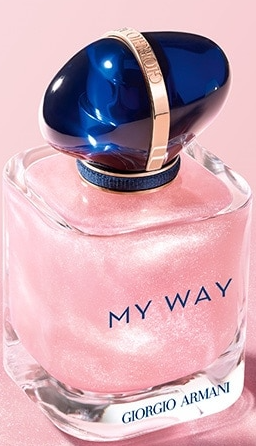armani_my_way_floral: (1, 24, 250, 440)
